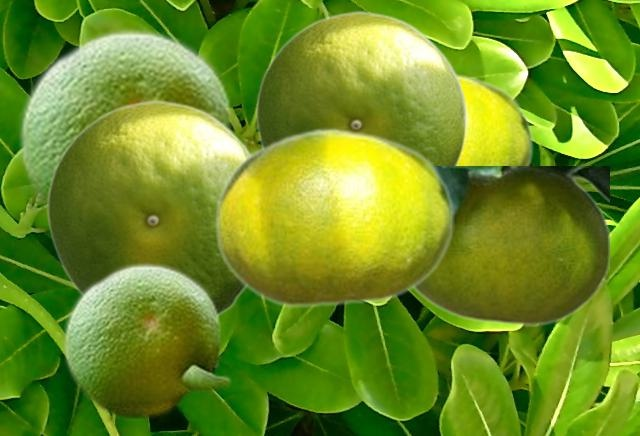dalandan: (46, 99, 252, 315), (214, 127, 453, 308), (16, 25, 238, 210), (255, 10, 466, 165), (412, 166, 608, 325), (61, 260, 233, 419), (456, 70, 532, 165)
